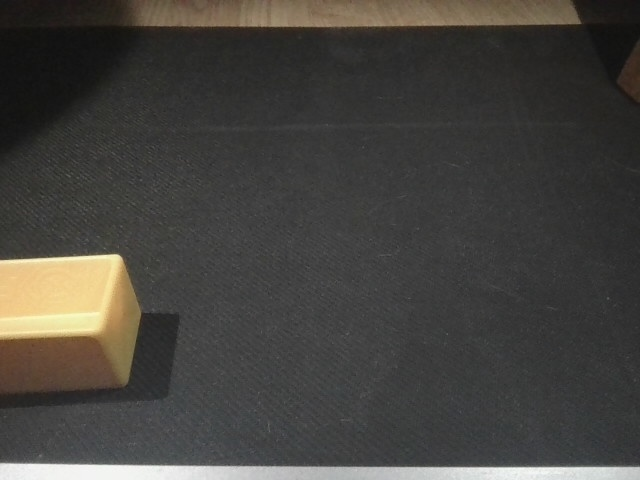YellowSample: (1, 248, 148, 390)
